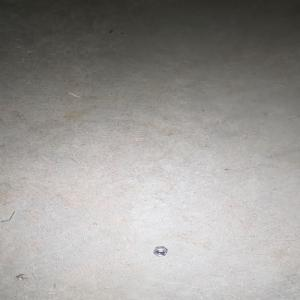Nut: (152, 246, 168, 256)
